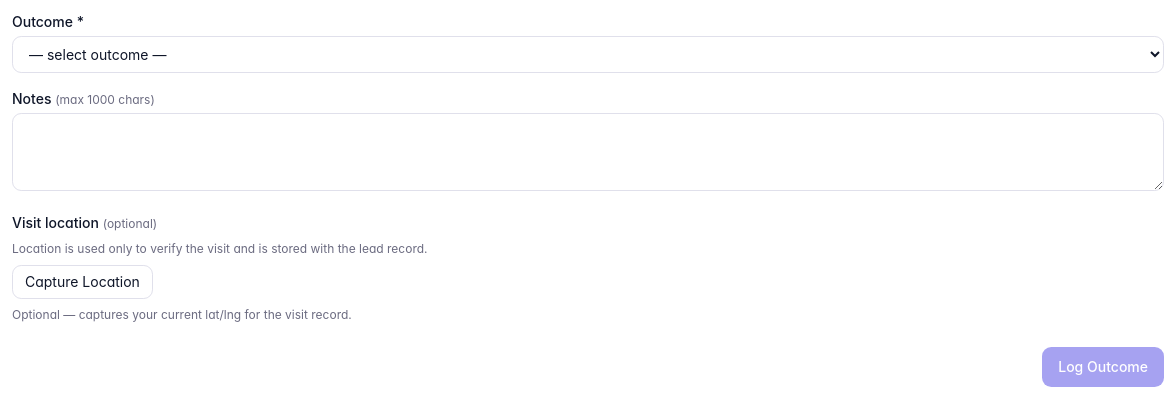
DispositionForm › UI-03b: submit button enabled after disposition is selected
Select "Connected" in the dropdown at (588, 54), box [12,36,1164,73]
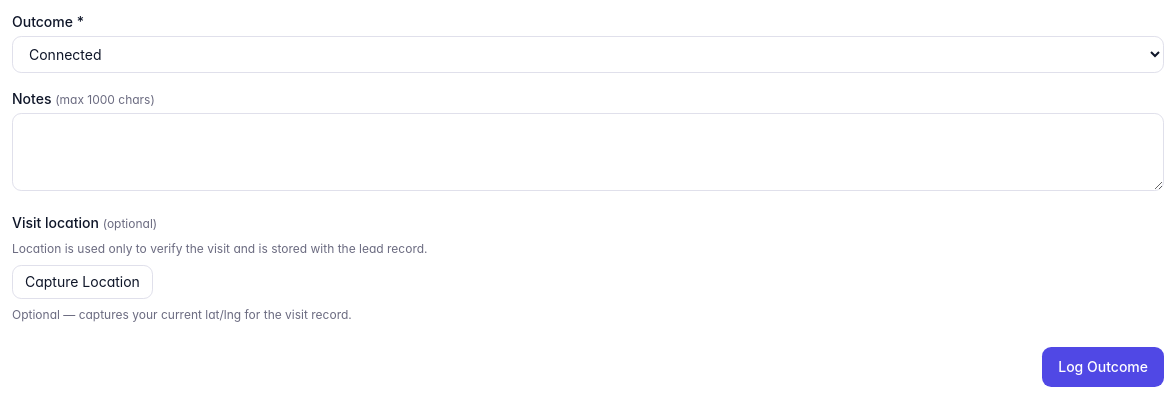
Expected: the button "Log Outcome" is enabled, [1042,347,1164,387]
